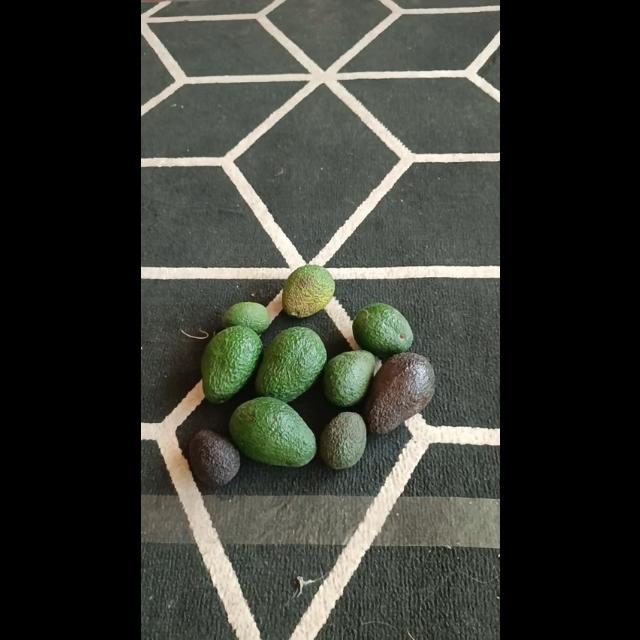Primera: (228, 396, 316, 466), (364, 351, 436, 433), (255, 326, 327, 402), (200, 324, 262, 404)
Segunda: (351, 302, 413, 358), (322, 349, 374, 408), (280, 264, 334, 318)
Tercera: (187, 428, 239, 486), (318, 410, 367, 470), (220, 300, 268, 334)
